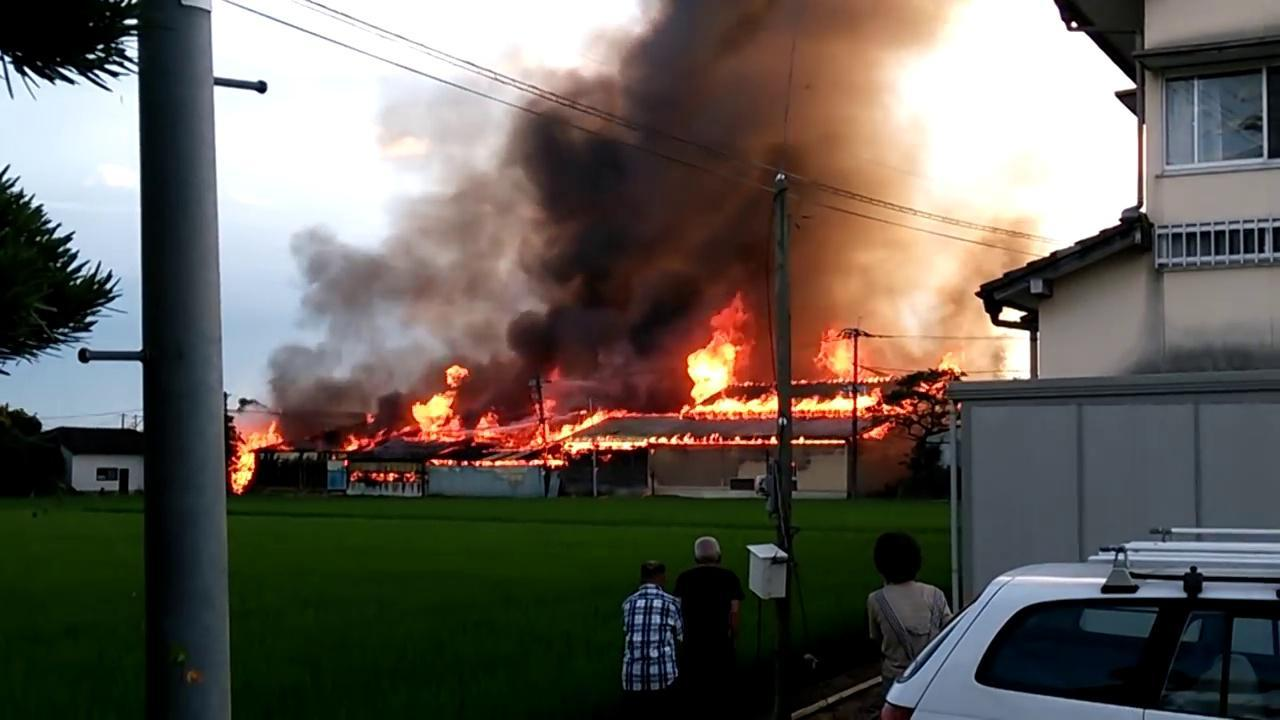Fire: (330, 366, 608, 456), (676, 323, 876, 421), (863, 362, 969, 440), (578, 431, 846, 451), (231, 425, 282, 491), (428, 455, 572, 468), (610, 404, 673, 420), (344, 472, 415, 483)
